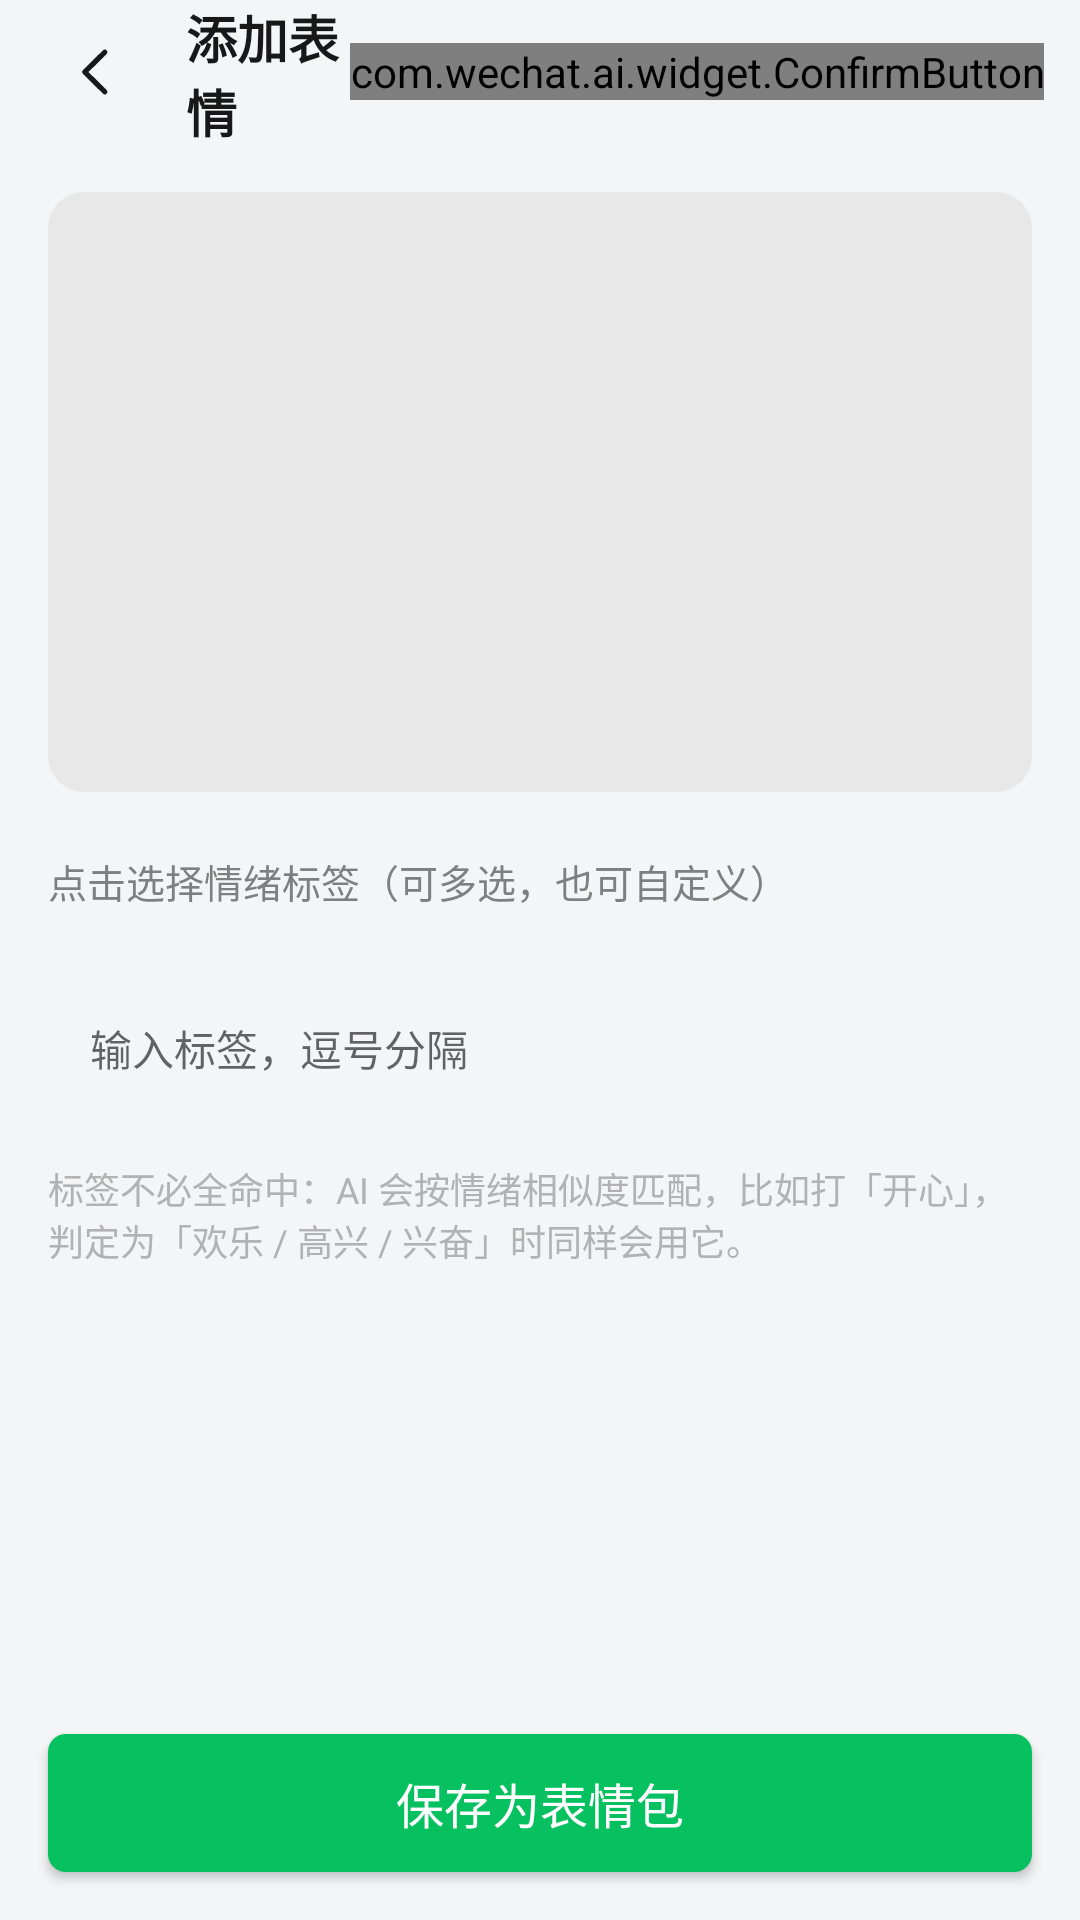

Where to tap for icons on this 1080w x 1920h app screen, as [x,y]:
返回: [95,72]
